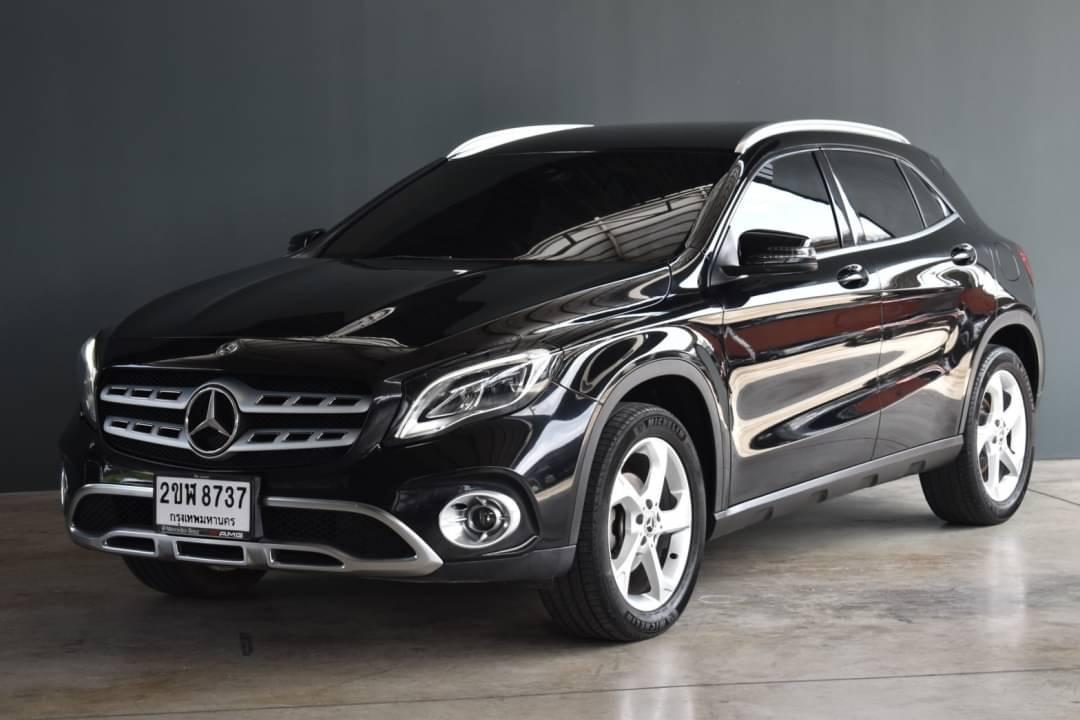license-plate: (150, 472, 263, 544)
